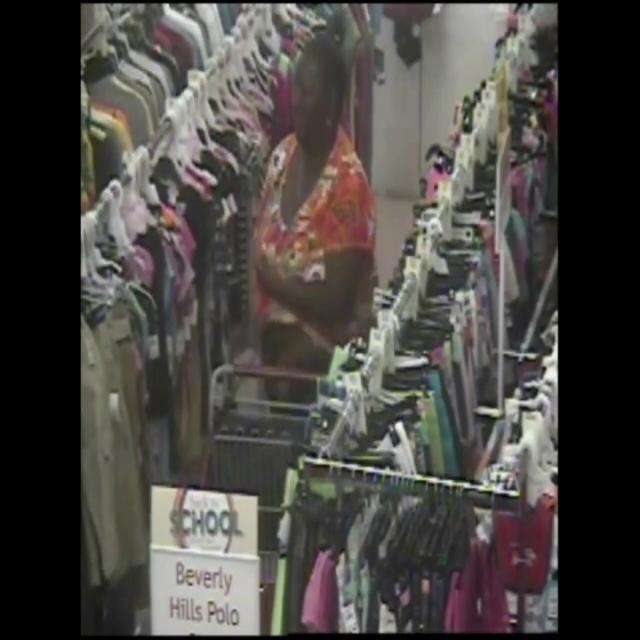shoplifting: (230, 6, 389, 377)
